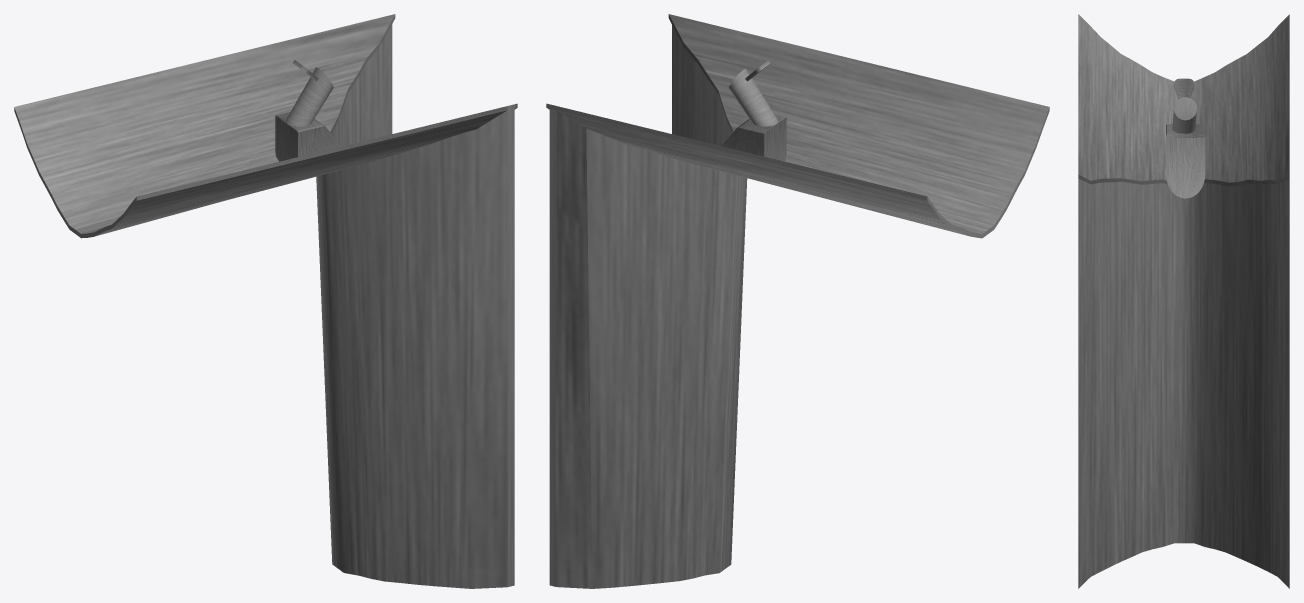
The model's file is Water Tape Textured.fbx.
3 views of the same model, side by side, from view 1: azimuth 30°, elevation 25°; view 2: azimuth 150°, elevation 25°; view 3: azimuth 270°, elevation 25° (orthographic). The views are drawn at different scales.
Visible parts, largest first — view 1: group2_pCube4; view 2: group2_pCube4; view 3: group2_pCube4.
Part boxes in pixels (x1,y1,x2,y2): group2_pCube4: [14, 14, 517, 588]; group2_pCube4: [546, 14, 1049, 588]; group2_pCube4: [1078, 14, 1289, 588].
Size of the model in its own units: 188 by 243 by 104.
